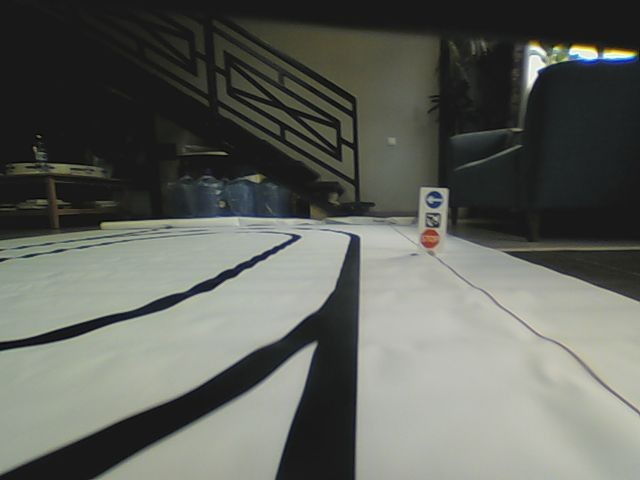Stop: (420, 228, 441, 249)
